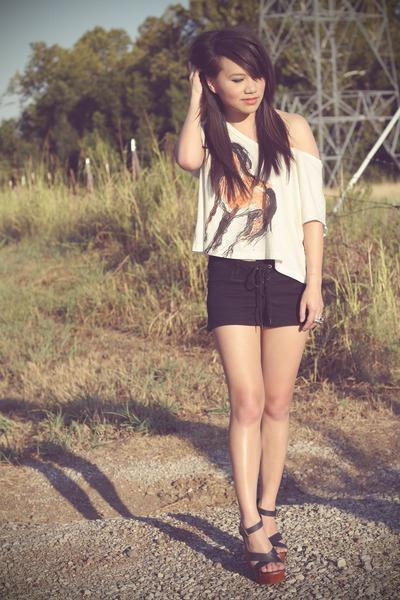Shorts: (198, 253, 323, 332)
short sleeve shirt: (187, 110, 327, 279)
